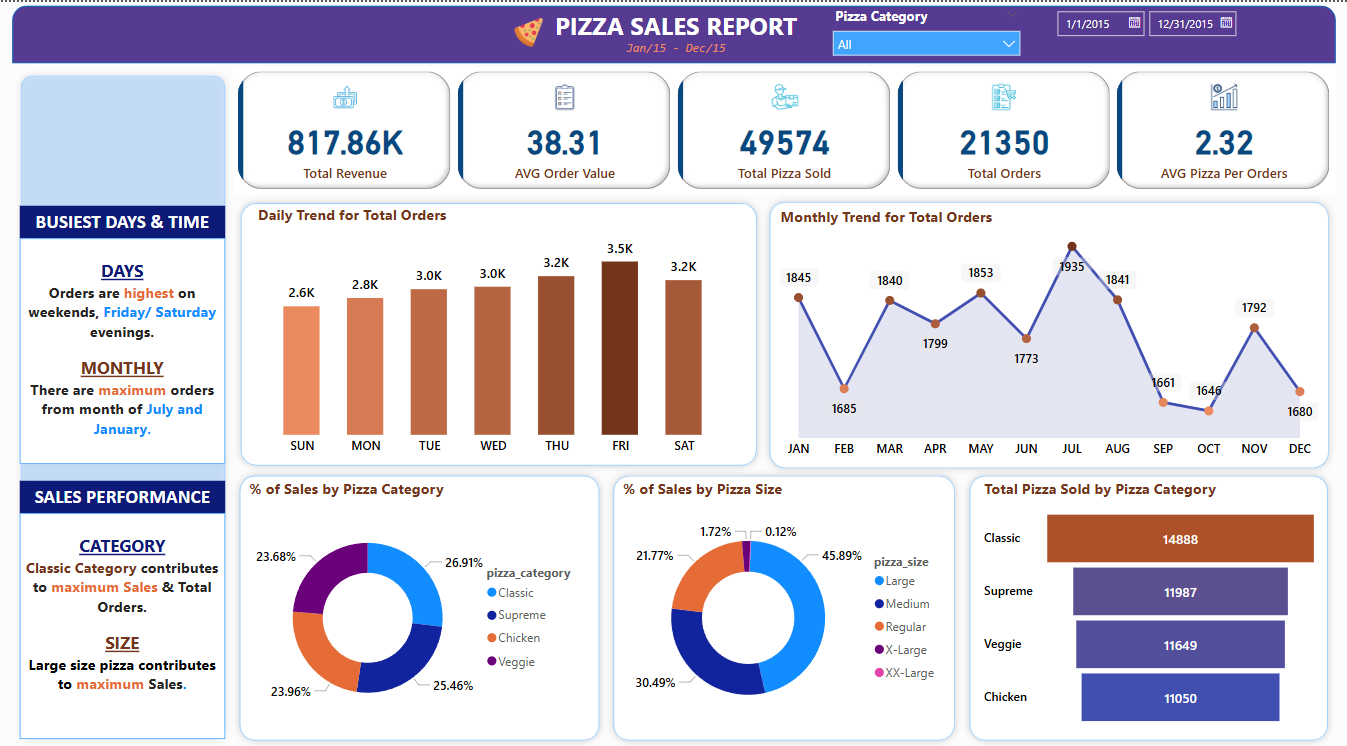

Layout of this report page (visuals, bound fields, positions):
{"tool":"powerbi","page":{"name":"Home","canvas":[1500,825],"ordinal":0},"visuals":[{"type":"cardVisual","fields":{"Data":["PIZZA_SALES.Total Revenue","PIZZA_SALES.AVG Order Value","PIZZA_SALES.Total Pizza Sold","PIZZA_SALES.Total Orders","PIZZA_SALES.AVG Pizza Per Orders"]},"box":[262.5,71.9,1220.3,140.6],"z":0},{"type":"shape","box":[18.2,3.6,1463.6,63.6],"z":1000},{"type":"textbox","box":[589.8,3.4,323.7,50.8],"z":2000},{"type":"textbox","box":[678,35.6,149.2,30.5],"z":3000},{"type":"image","box":[550.8,11.9,78,42.4],"z":4000},{"type":"shape","box":[262.3,214.8,586.9,306.6],"z":5000},{"type":"clusteredColumnChart","title":"Daily Trend for Total Orders","fields":{"Category":["PIZZA_SALES.Order Day"],"Y":["PIZZA_SALES.Total Orders"]},"box":[285.2,224.6,531.1,286.9],"z":6000},{"type":"shape","box":[847.3,212.7,634.5,310.9],"z":7000},{"type":"areaChart","title":"Monthly Trend for Total Orders","fields":{"Y":["PIZZA_SALES.Total Orders"],"Category":["PIZZA_SALES.Order Month"]},"box":[863.1,225,604.8,288.1],"z":8000},{"type":"shape","box":[1068.8,515.6,412.5,309.4],"z":9000},{"type":"shape","box":[675,515.6,393.8,309.4],"z":10000},{"type":"shape","box":[260.9,515.6,414.1,309.4],"z":11000},{"type":"donutChart","title":"% of Sales by Pizza Category","fields":{"Category":["PIZZA_SALES.pizza_category"],"Y":["PIZZA_SALES.Total Revenue"]},"box":[275,526.6,381.2,287.5],"z":12000},{"type":"donutChart","title":"% of Sales by Pizza Size","fields":{"Y":["PIZZA_SALES.Total Revenue"],"Category":["PIZZA_SALES.pizza_size"]},"box":[689.1,526.6,367.2,287.5],"z":13000},{"type":"funnel","title":"Total Pizza Sold by Pizza Category","fields":{"Category":["PIZZA_SALES.pizza_category"],"Y":["PIZZA_SALES.Total Pizza Sold"]},"box":[1087.5,526.6,379.7,287.5],"z":14000},{"type":"shape","box":[18.8,73.4,242.2,750],"z":15000},{"type":"textbox","box":[25.8,225.8,227,36],"z":16000},{"type":"textbox","box":[25.8,261.8,227,249.4],"z":17000},{"type":"textbox","box":[25.8,529.2,227,36],"z":18000},{"type":"textbox","box":[25.8,565.2,227,249.4],"z":19000},{"type":"slicer","fields":{"Values":["PIZZA_SALES.pizza_category"]},"box":[914.5,0,227.4,66.1],"z":20000},{"type":"slicer","fields":{"Values":["PIZZA_SALES.order_date"]},"box":[1161.3,0,227.4,66.1],"z":21000}]}

Visuals, with their boxes in screenshot pixels (x1, y1, x2, y2), scaled from the page's 1500x825 canvas onto the 1347x746 screenshot:
cardVisual - PIZZA_SALES.Total Revenue x PIZZA_SALES.AVG Order Value: (236,65,1332,192)
shape: (16,3,1331,61)
textbox: (530,3,820,49)
textbox: (609,32,743,60)
image: (495,11,565,49)
shape: (236,194,763,471)
"Daily Trend for Total Orders" clusteredColumnChart: (256,203,733,463)
shape: (761,192,1331,473)
"Monthly Trend for Total Orders" areaChart: (775,203,1318,464)
shape: (960,466,1330,745)
shape: (606,466,960,745)
shape: (234,466,606,745)
"% of Sales by Pizza Category" donutChart: (247,476,589,736)
"% of Sales by Pizza Size" donutChart: (619,476,949,736)
"Total Pizza Sold by Pizza Category" funnel: (977,476,1318,736)
shape: (17,66,234,745)
textbox: (23,204,227,237)
textbox: (23,237,227,462)
textbox: (23,479,227,511)
textbox: (23,511,227,737)
slicer - PIZZA_SALES.pizza_category: (821,0,1025,60)
slicer - PIZZA_SALES.order_date: (1043,0,1247,60)
